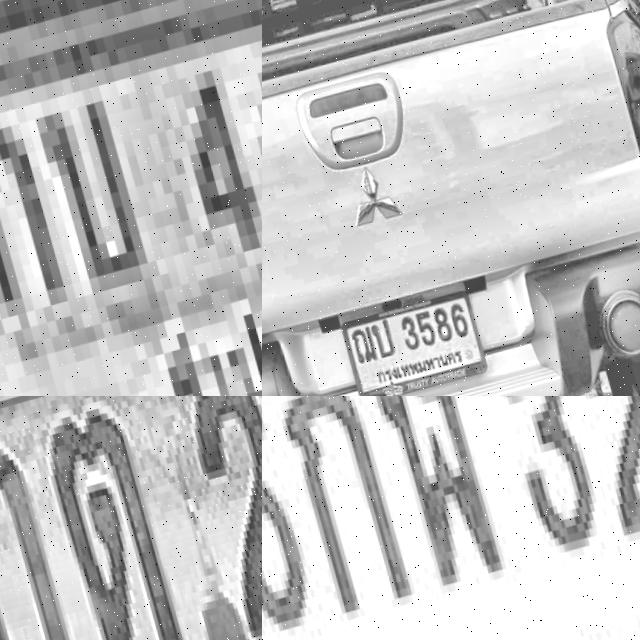license-plate: (0, 0, 262, 396), (262, 396, 640, 640), (0, 396, 262, 640), (323, 290, 481, 396)
